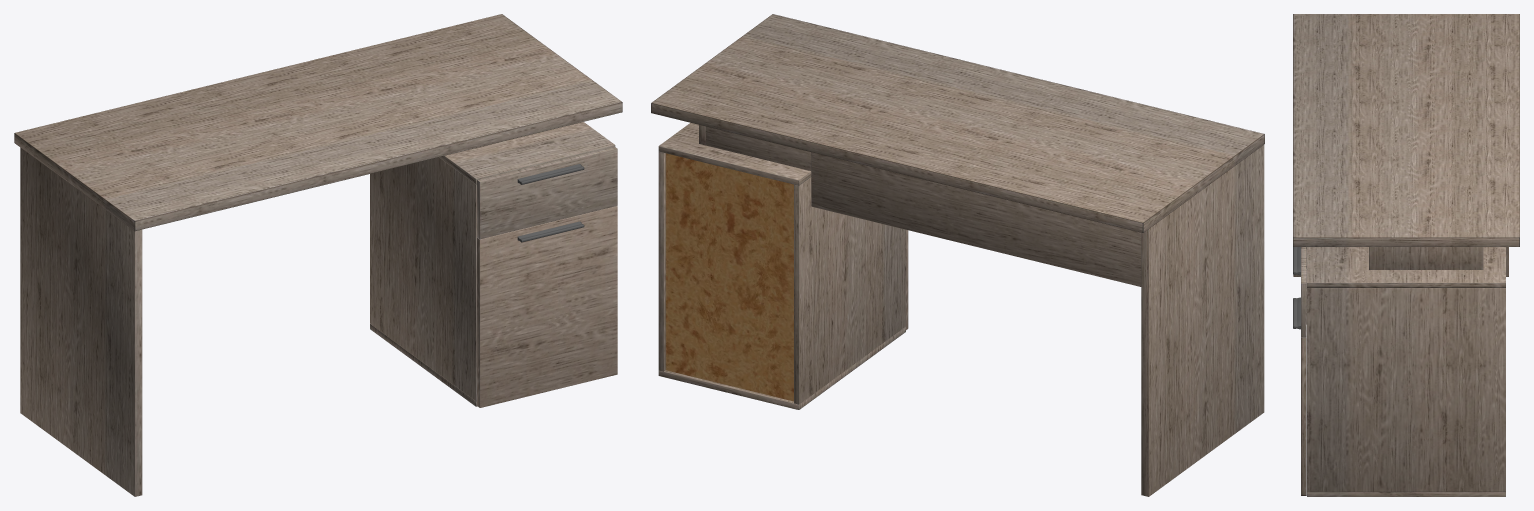
File: office-desk.glb
3 renders of one model, left to right at view 1: azimuth 30°, elevation 25°; view 2: azimuth 150°, elevation 25°; view 3: azimuth 270°, elevation 25°, orthographic. The views are drawn at different scales.
Parts seen in each view (by area): view 1: #TBL0003_Desk_140x60_Gray_0, #TBL0003_Door_2, #TBL0003_Drawer_1; view 2: #TBL0003_Desk_140x60_Gray_0; view 3: #TBL0003_Desk_140x60_Gray_0, #TBL0003_Door_2, #TBL0003_Drawer_1.
Boxes of the visible parts, <box> form: #TBL0003_Desk_140x60_Gray_0: <box>14,14,622,496</box>; #TBL0003_Door_2: <box>477,206,617,407</box>; #TBL0003_Drawer_1: <box>477,146,617,239</box>; #TBL0003_Desk_140x60_Gray_0: <box>651,14,1264,496</box>; #TBL0003_Desk_140x60_Gray_0: <box>1293,14,1519,496</box>; #TBL0003_Door_2: <box>1293,297,1306,495</box>; #TBL0003_Drawer_1: <box>1293,247,1306,337</box>.
Bounding box in the file's own units: 1.4 × 0.757 × 0.6.
Materials: 1 (1 with a texture image).
